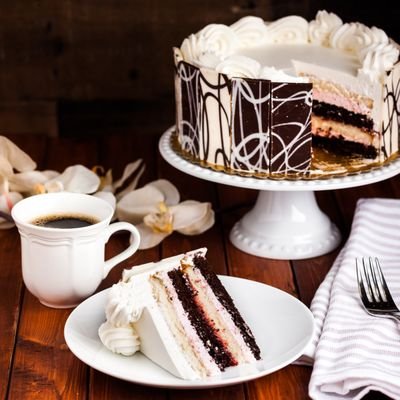pizza: (10, 191, 141, 309)
